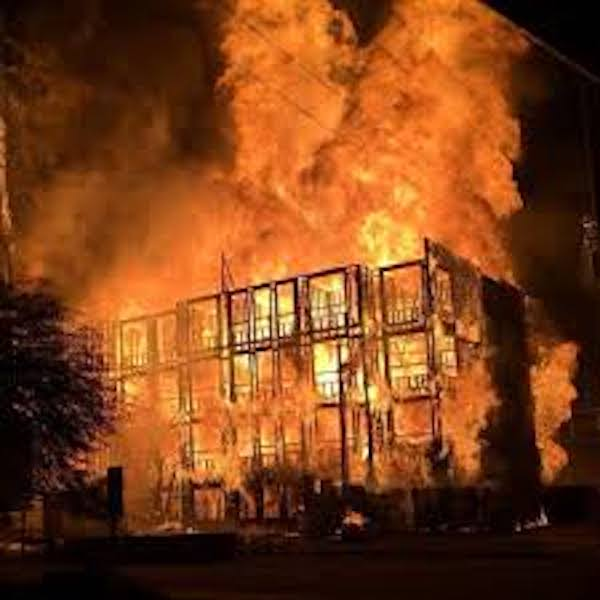fire: (226, 2, 525, 265), (97, 197, 219, 316), (391, 335, 486, 475), (194, 361, 309, 459), (118, 318, 191, 457), (533, 336, 576, 480), (167, 461, 242, 515), (315, 345, 339, 398), (255, 289, 268, 339), (278, 288, 292, 327)
